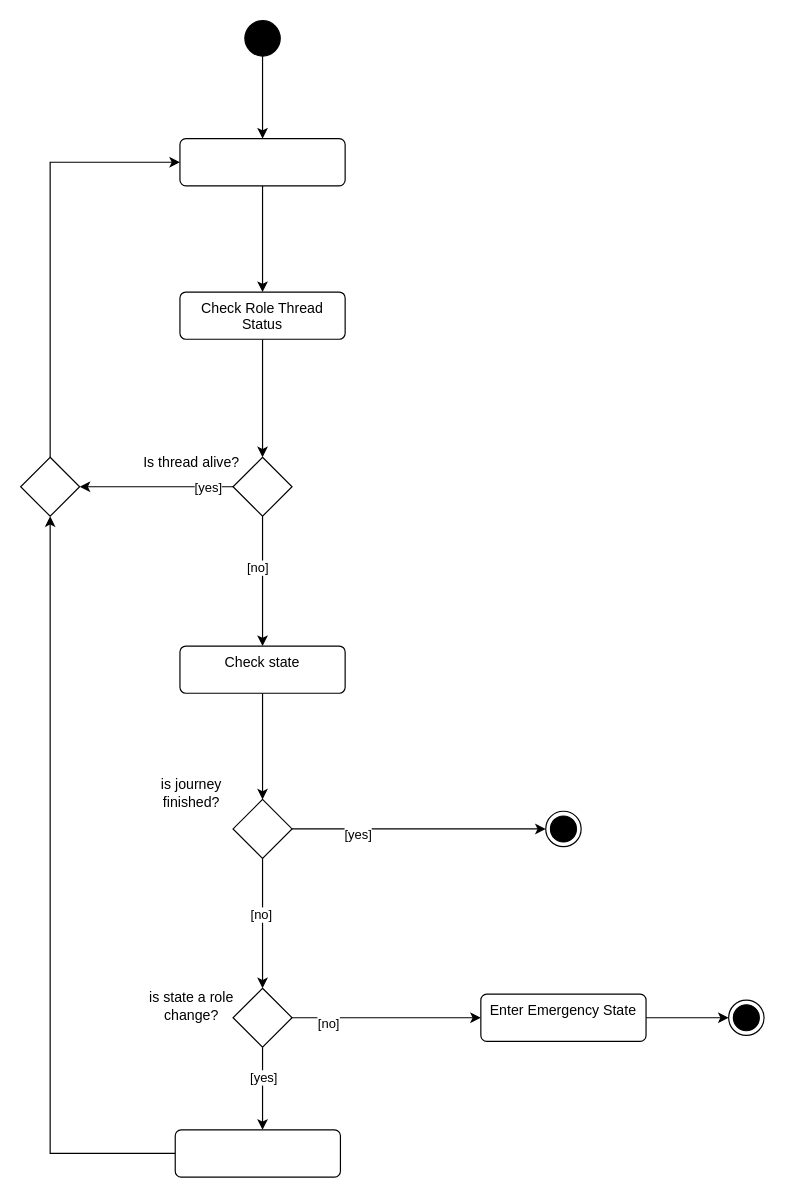
The diagram is 785 pixels wide and 1198 high, and some of its shapes have lost their labels. The shapes that lost their labels are listed below. From the top down, each one's box as (x1, y1, x2, y2) in pixels, then its label:
(179, 137, 345, 186): Handle Communication
(174, 1129, 340, 1177): Start new role thread based on state
